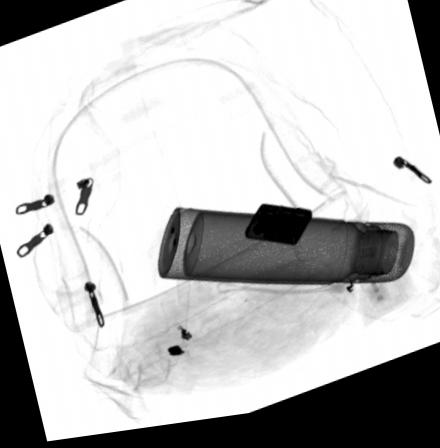Lighter: (243, 210, 311, 253)
